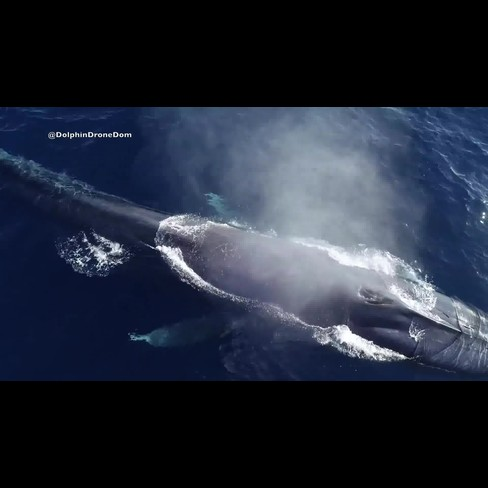bluewhale: (3, 148, 488, 377)
